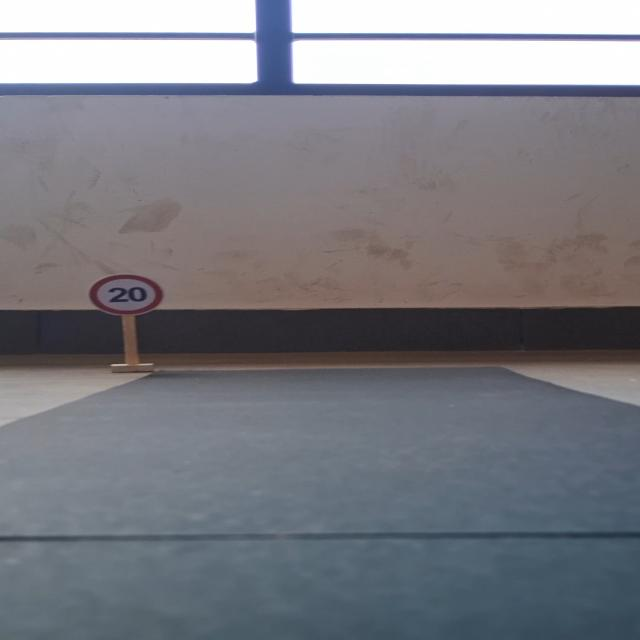Speed20: (84, 272, 168, 317)
